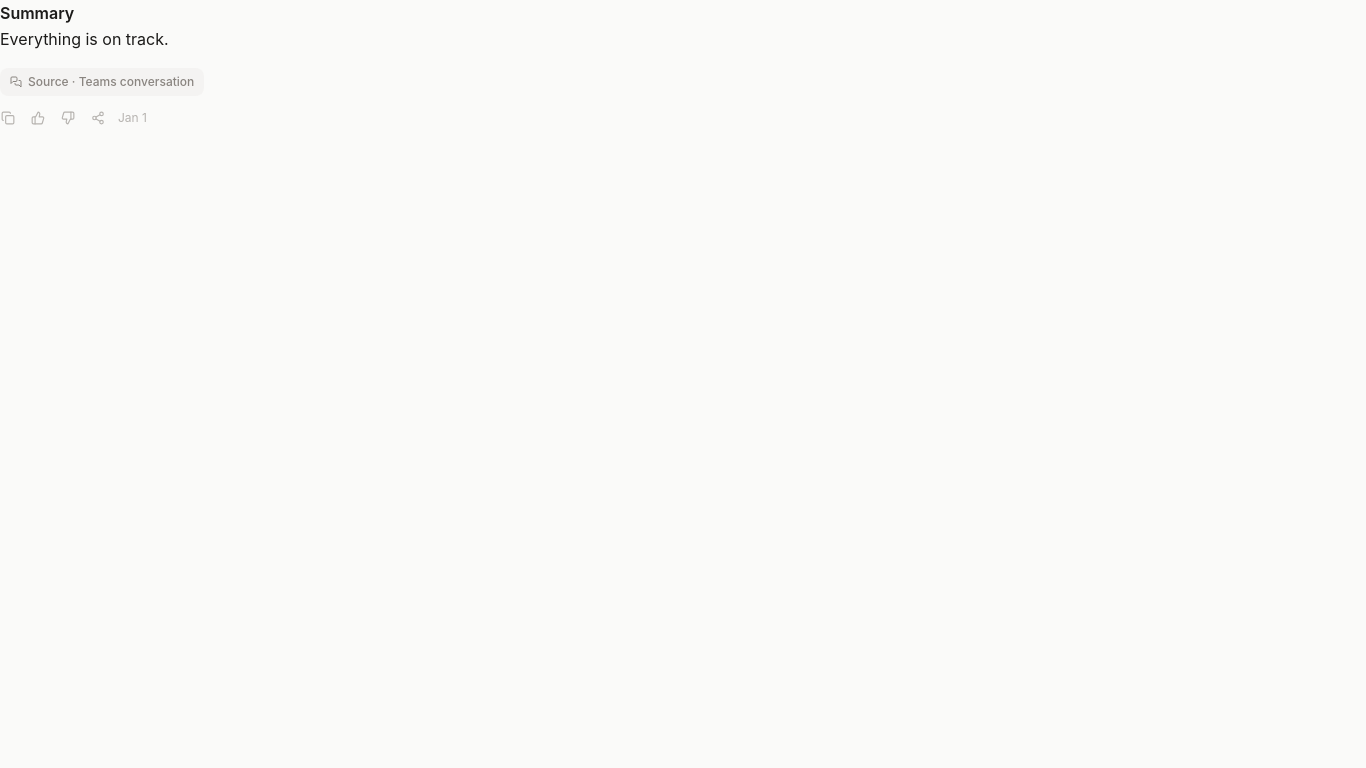
Test case: Message — Markdown rendering (frontend Markdown pass) › Markdown content and the Source chip render together, but the chip stays a sibling — never inside the Markdown DOM/content, and its click behavior is unaffected
This screenshot has width=1366, height=768.
Click the button "Source · Teams conversation" at [102, 82], box [0,68,204,96]
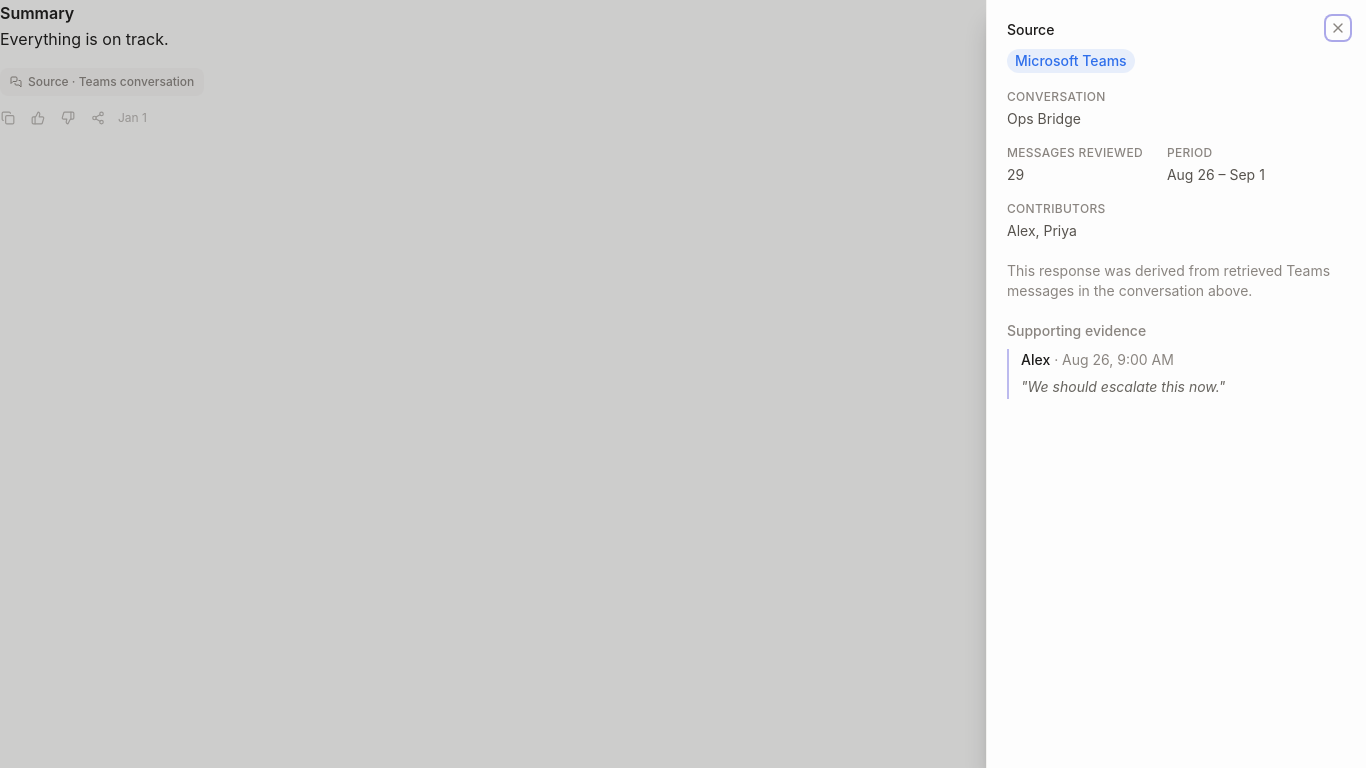
Check: the text "Ops Bridge" is shown, box [1007,110,1081,127]
